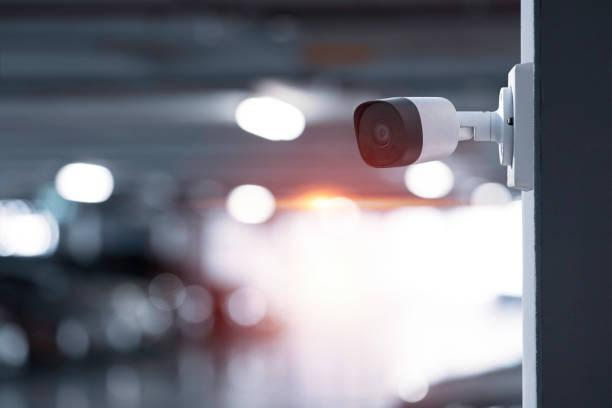camera: (339, 85, 474, 183)
